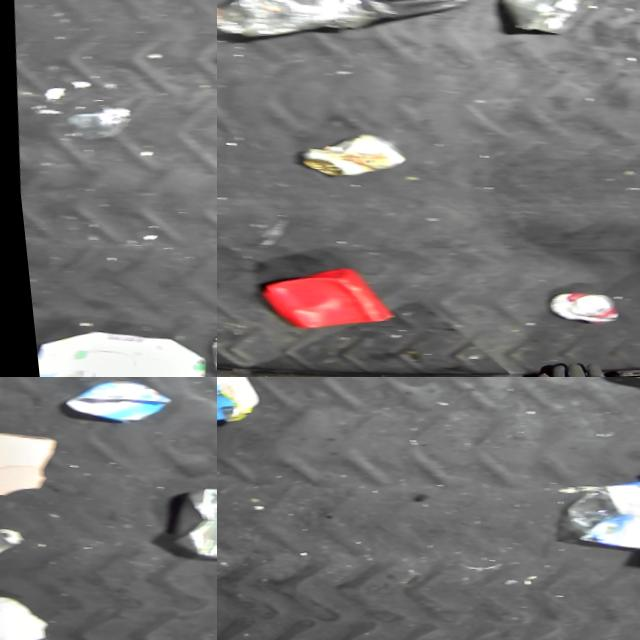can: (52, 377, 170, 431), (150, 481, 217, 574), (286, 130, 399, 184), (494, 0, 600, 44), (534, 293, 610, 332)
milk_jug: (24, 321, 202, 377)
plastic_bottle: (217, 0, 370, 49)
